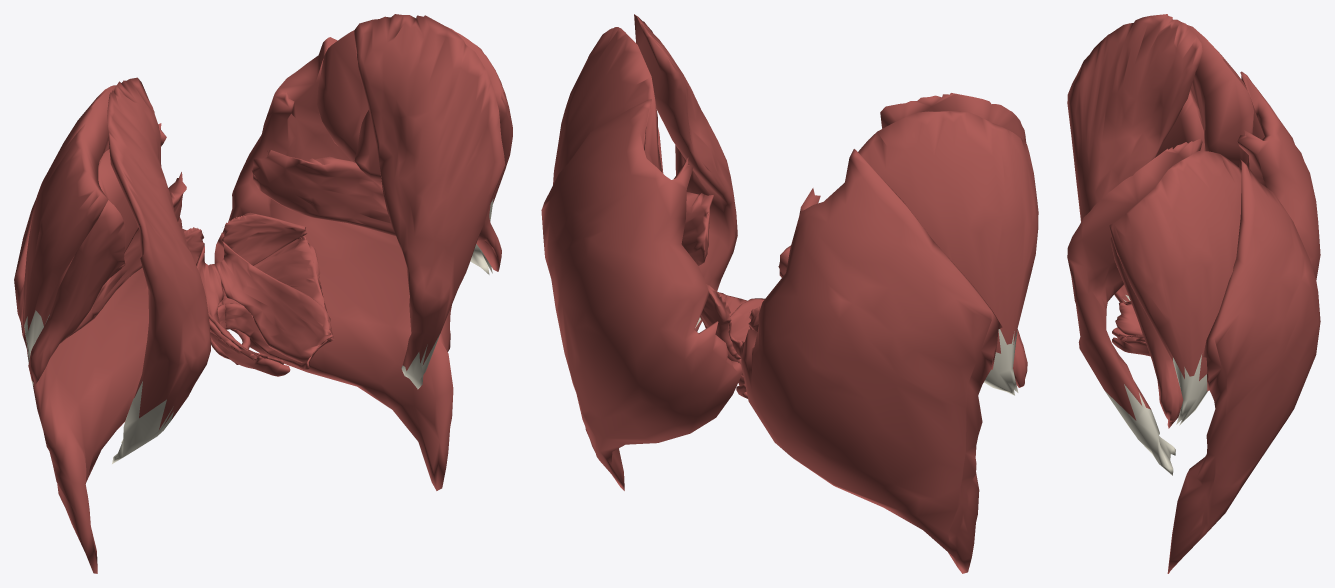
File: muscular-pelvis-mobile.glb
3 views of the same model, side by side, from view 1: azimuth 30°, elevation 25°; view 2: azimuth 150°, elevation 25°; view 3: azimuth 270°, elevation 25° (orthographic). The views are drawn at different scales.
Parts seen in each view (by area): view 1: za.iliacus-muscle-l, za.gluteus-maximus-muscle-l, za.iliacus-muscle-r, za.gluteus-maximus-muscle-r, za.gluteus-medius-muscle-r, za.gluteus-minimus-muscle-r, za.piriformis-muscle-l, za.pubococcygeus-muscle-l, za.gluteus-medius-muscle-l, za.coccygeus-muscle-l, za.iliococcygeus-muscle-l, za.gluteus-minimus-muscle-l (+4 smaller); view 2: za.gluteus-maximus-muscle-r, za.gluteus-maximus-muscle-l, za.gluteus-medius-muscle-r, za.iliacus-muscle-l, za.gluteus-medius-muscle-l, za.iliacus-muscle-r, za.piriformis-muscle-l, za.coccygeus-muscle-l, za.pubococcygeus-muscle-l; view 3: za.gluteus-maximus-muscle-l, za.gluteus-medius-muscle-l, za.iliacus-muscle-r, za.iliacus-muscle-l, za.gluteus-maximus-muscle-r, za.gluteus-medius-muscle-r, za.gluteus-minimus-muscle-l, za.gluteus-minimus-muscle-r, za.pubococcygeus-muscle-r, za.pubo-analis-muscle-l.
Part boxes in pixels (x1,y1,x2,y2): za.iliacus-muscle-l: (354, 14, 505, 389); za.gluteus-maximus-muscle-l: (214, 37, 453, 490); za.iliacus-muscle-r: (107, 77, 210, 463); za.gluteus-maximus-muscle-r: (14, 123, 182, 573); za.gluteus-medius-muscle-r: (23, 85, 116, 385); za.gluteus-minimus-muscle-r: (28, 149, 138, 384); za.piriformis-muscle-l: (252, 150, 395, 235); za.pubococcygeus-muscle-l: (215, 241, 332, 362); za.gluteus-medius-muscle-l: (317, 27, 512, 274); za.coccygeus-muscle-l: (222, 212, 307, 265); za.iliococcygeus-muscle-l: (222, 236, 331, 329); za.gluteus-minimus-muscle-l: (354, 110, 501, 271); za.gluteus-maximus-muscle-r: (741, 149, 1002, 573); za.gluteus-maximus-muscle-l: (541, 99, 742, 490); za.gluteus-medius-muscle-r: (858, 111, 1038, 395); za.iliacus-muscle-l: (634, 14, 737, 331); za.gluteus-medius-muscle-l: (553, 27, 661, 184); za.iliacus-muscle-r: (880, 93, 1026, 142); za.piriformis-muscle-l: (682, 192, 713, 265); za.coccygeus-muscle-l: (700, 284, 741, 360); za.pubococcygeus-muscle-l: (728, 298, 764, 357); za.gluteus-maximus-muscle-l: (1167, 159, 1320, 573); za.gluteus-medius-muscle-l: (1109, 151, 1241, 425); za.iliacus-muscle-r: (1067, 14, 1202, 302); za.iliacus-muscle-l: (1067, 138, 1202, 475); za.gluteus-maximus-muscle-r: (1167, 71, 1320, 428); za.gluteus-medius-muscle-r: (1173, 19, 1253, 170); za.gluteus-minimus-muscle-l: (1110, 237, 1183, 421); za.gluteus-minimus-muscle-r: (1156, 89, 1205, 156); za.pubococcygeus-muscle-r: (1115, 301, 1142, 335); za.pubo-analis-muscle-l: (1112, 335, 1150, 356).
Size of the model in its own units: 0.3004 by 0.2936 by 0.1603.
